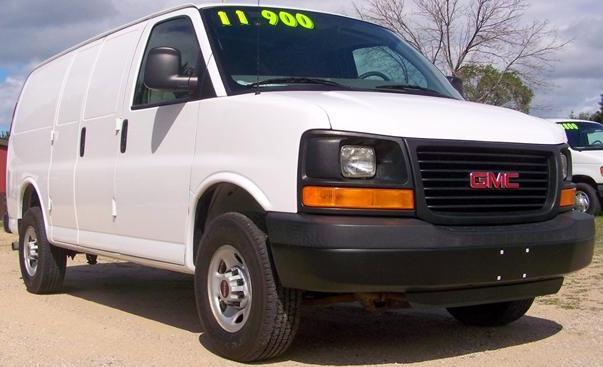front_view: (307, 119, 589, 320)
headlight: (304, 126, 425, 223)
side_glass: (134, 22, 242, 104)
